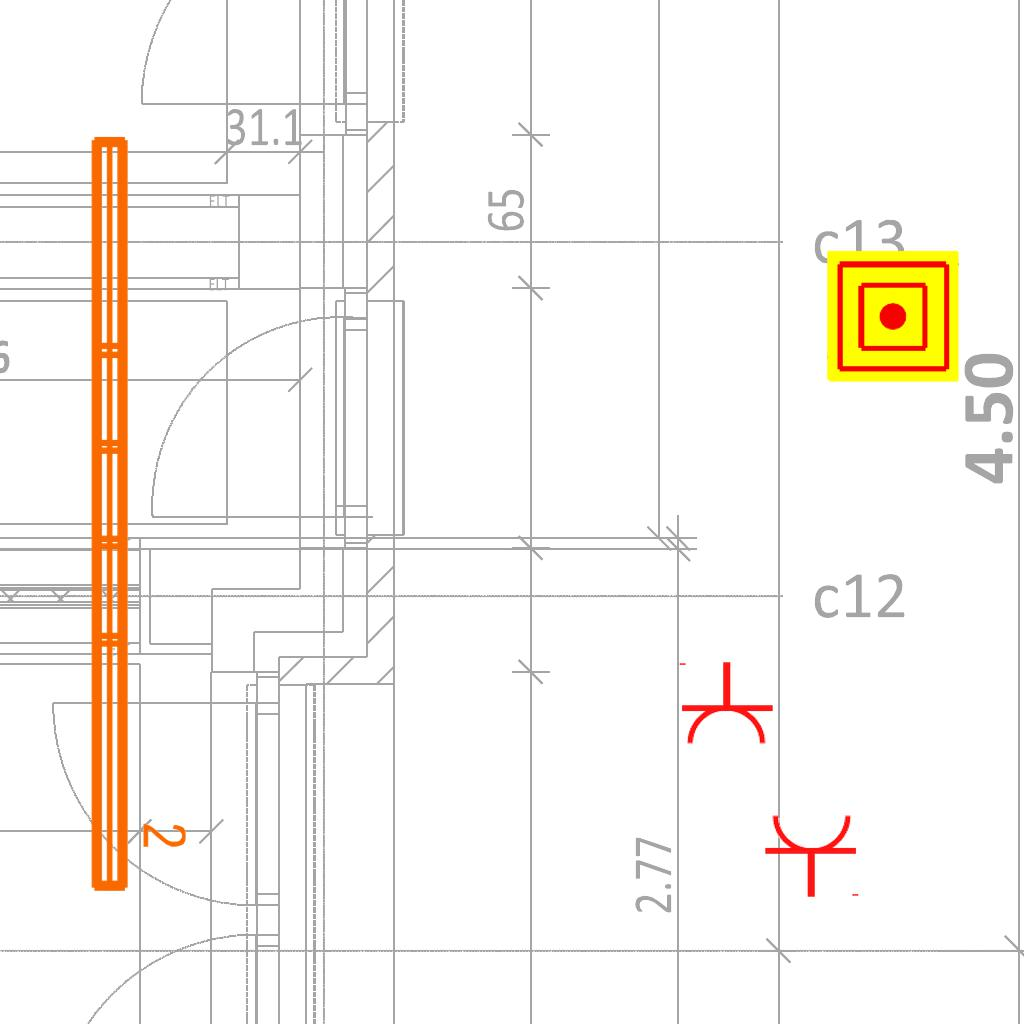Ambulanz_Pendelleuchte_LED: (79, 126, 191, 900)
NAM-Nichtautomatischer_Melder: (827, 250, 959, 382)
Schukosteckdose_einfach: (675, 660, 775, 747), (763, 812, 863, 899)
